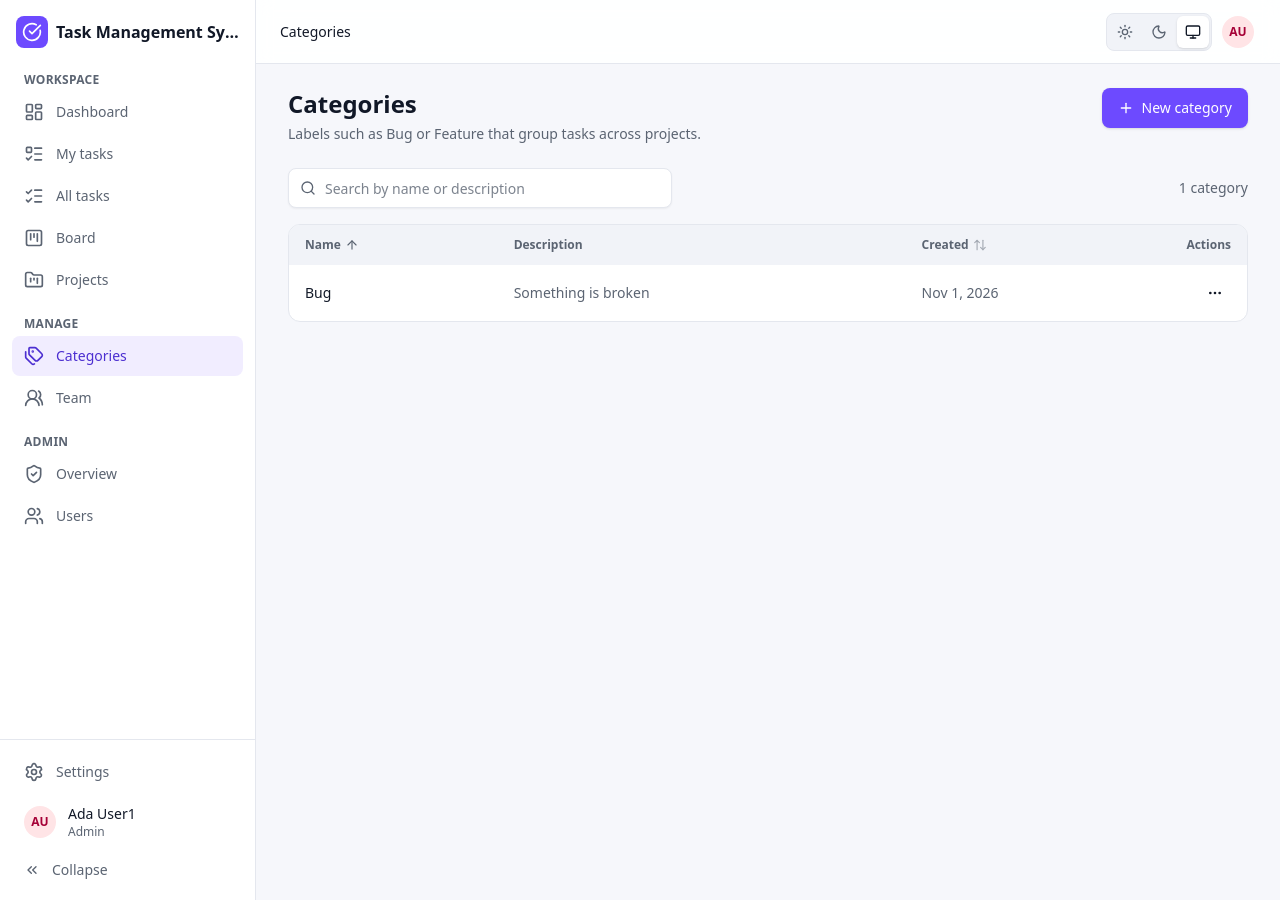
Test: Categories: writing (admin) › keeps the confirmation open and explains when deleting fails
Expected: the cell "Bug" is shown, [289,265,498,321]
Click the button named "Actions for Bug" at (1215, 293), box [1199,277,1231,309]
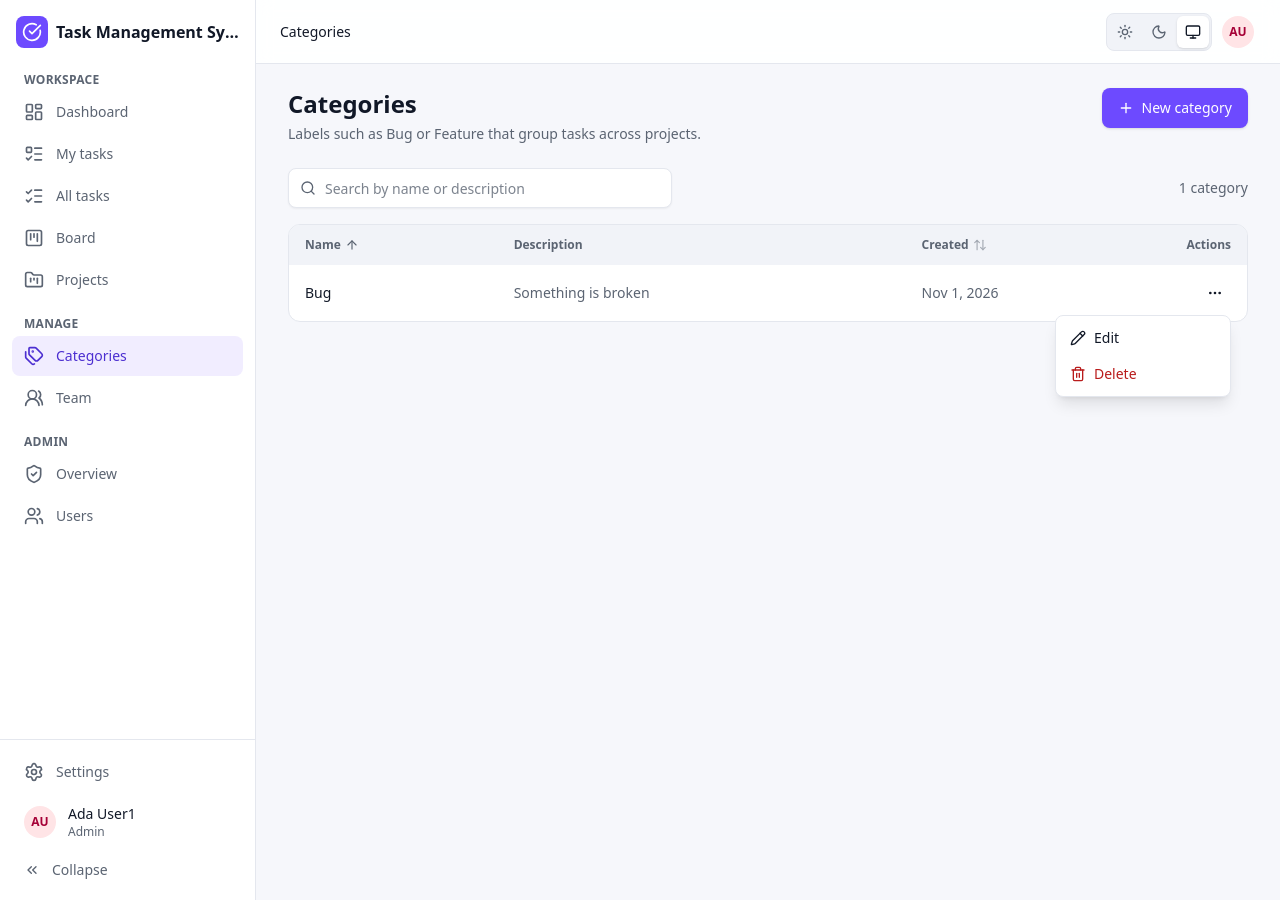
Click the menu item "Delete" at (1103, 374), box [1070,364,1137,383]
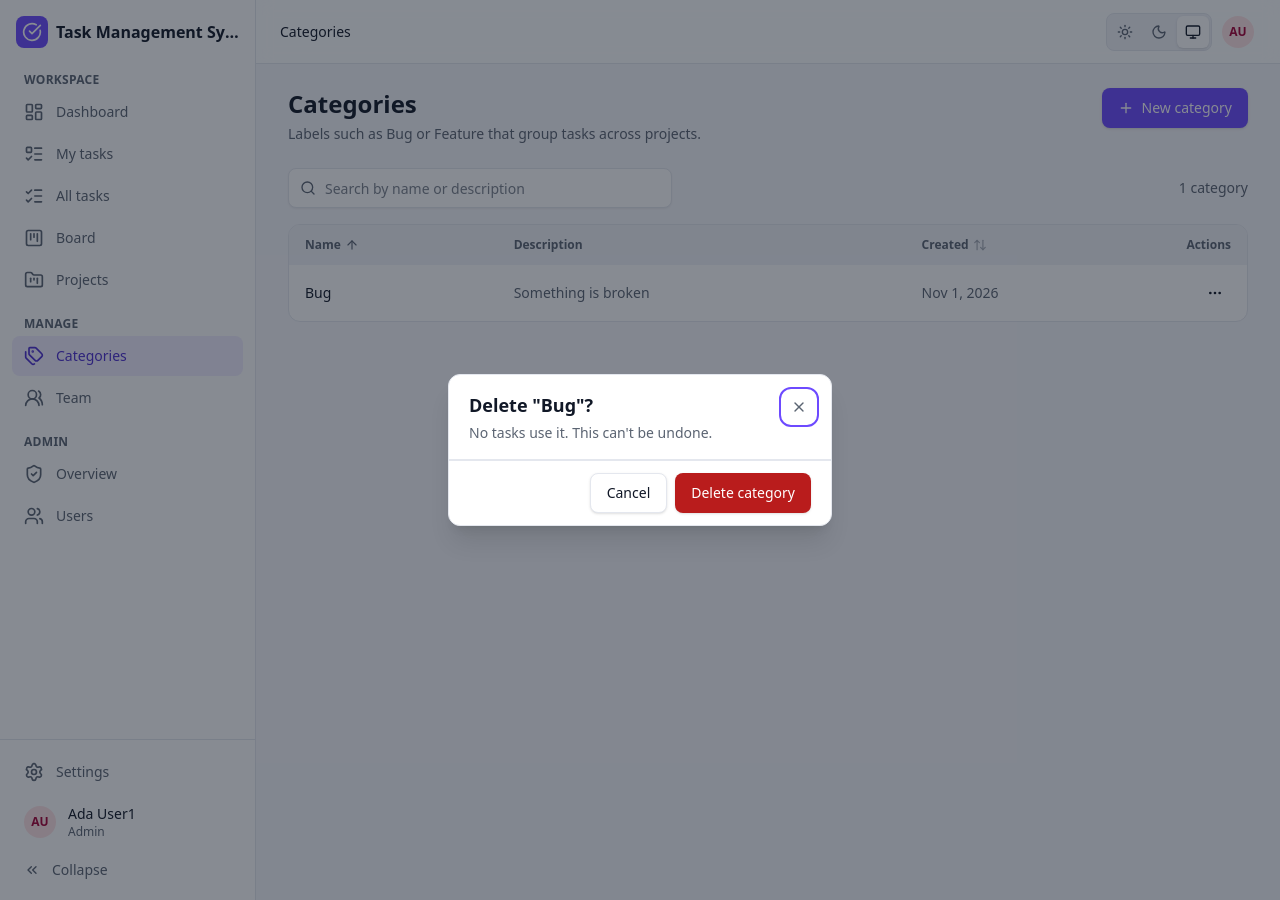
Click the button "Delete category" at (743, 493), box [675,473,811,513]
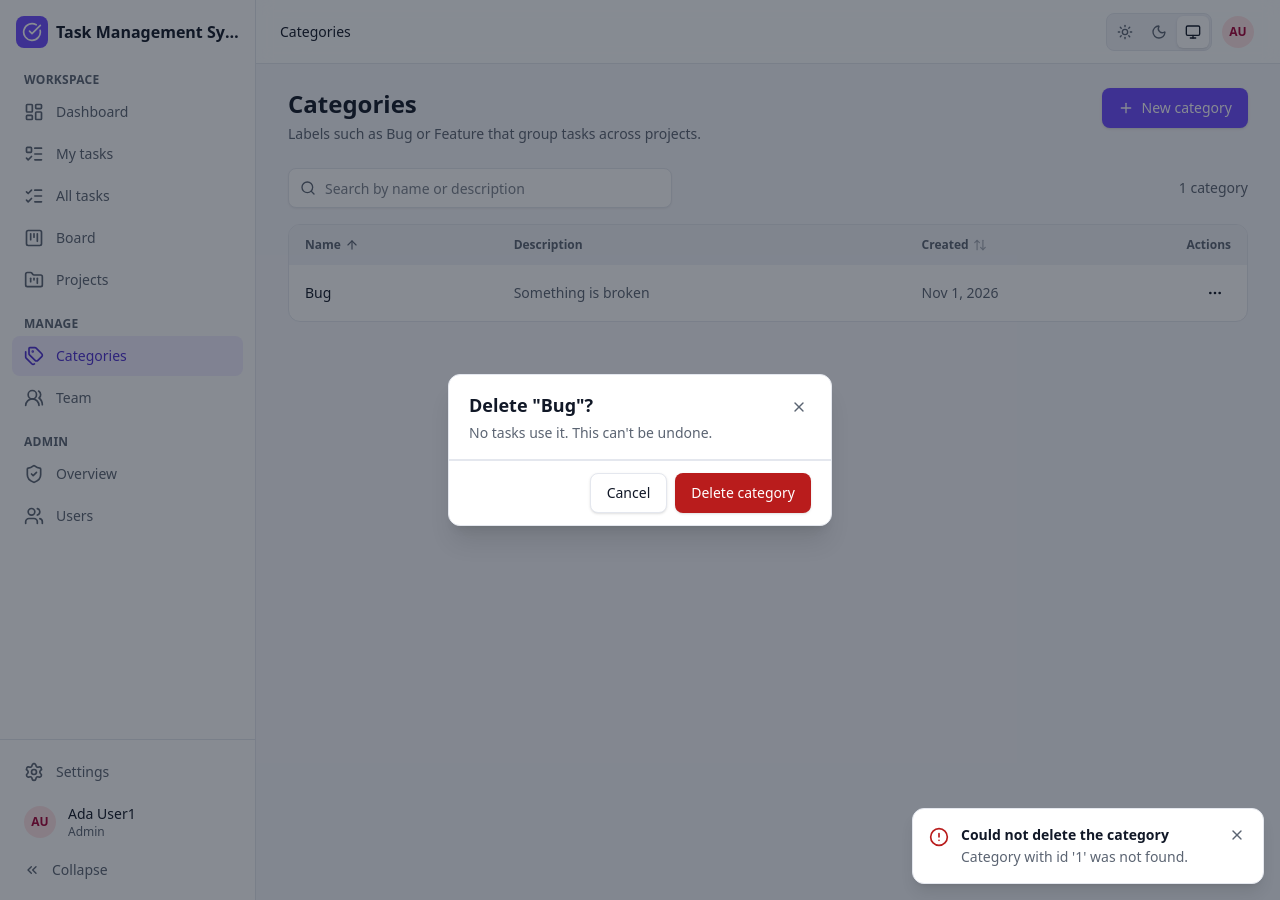
Expected: the dialog is shown, [448,374,832,526]
Expected: the text "Could not delete the category" is shown, [961,825,1169,844]
